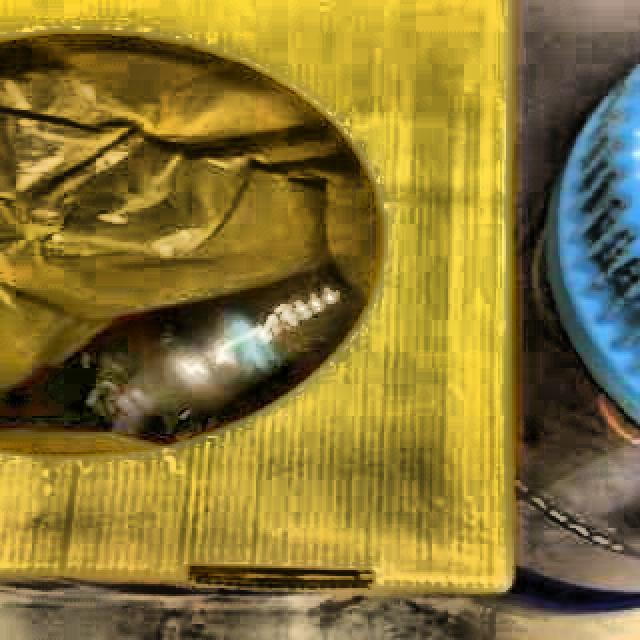plastic: (115, 274, 363, 407)
